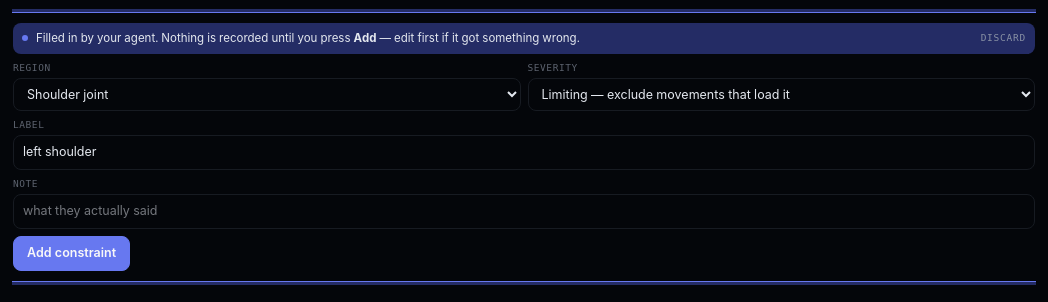
Test: ConstraintForm — a fill staged by the code-defined tool › shows the banner, keeps the values after the press, and hands the stage the sentence
Expected: the message shows "Filled in by your agent", [36,31,354,45]
Expected: the message shows "Nothing is recorded until you press", [36,31,354,45]
Click the button "Add constraint" at (72, 253), box [13,236,130,271]
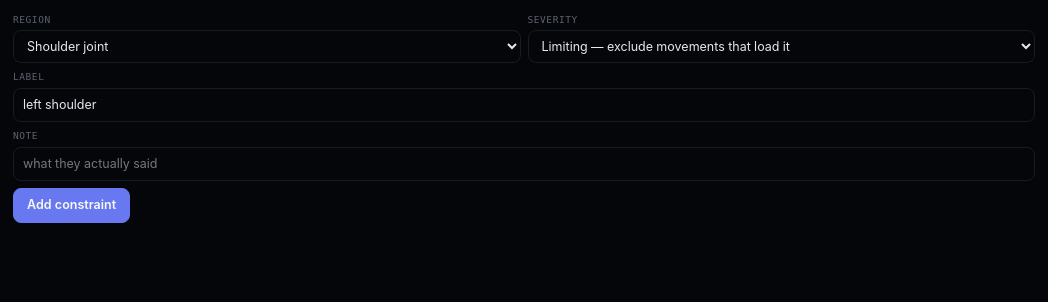
Expected: the field named "label" holds "left shoulder", [13,88,1035,122]
Expected: the message is gone
